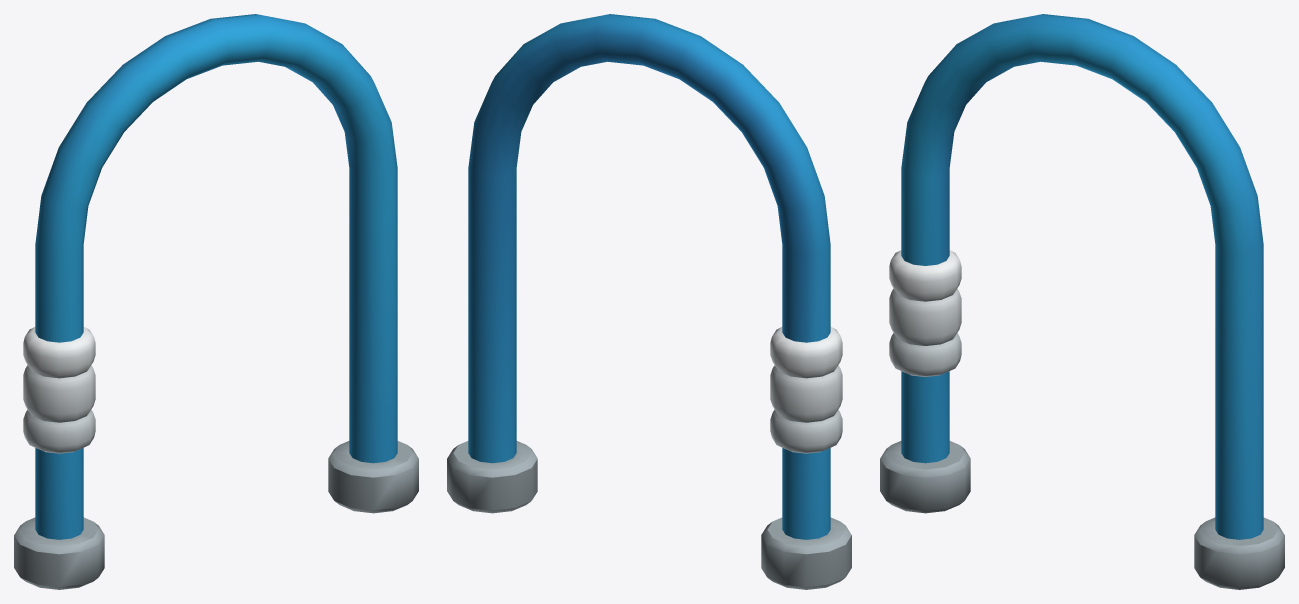
File: arch_tall_blue.obj
3 renders of one model, left to right at view 1: azimuth 30°, elevation 25°; view 2: azimuth 150°, elevation 25°; view 3: azimuth 330°, elevation 25°, orthographic.
Parts seen in each view (by area): view 1: arch_tall_blue; view 2: arch_tall_blue; view 3: arch_tall_blue.
Boxes of the visible parts, x1,y1,x2,y2 form: arch_tall_blue: [14, 14, 418, 589]; arch_tall_blue: [447, 14, 851, 589]; arch_tall_blue: [880, 14, 1284, 589].
Size of the model in its own units: 3.75 by 4.7 by 0.75.
